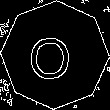O_N: (33, 29, 77, 81)
